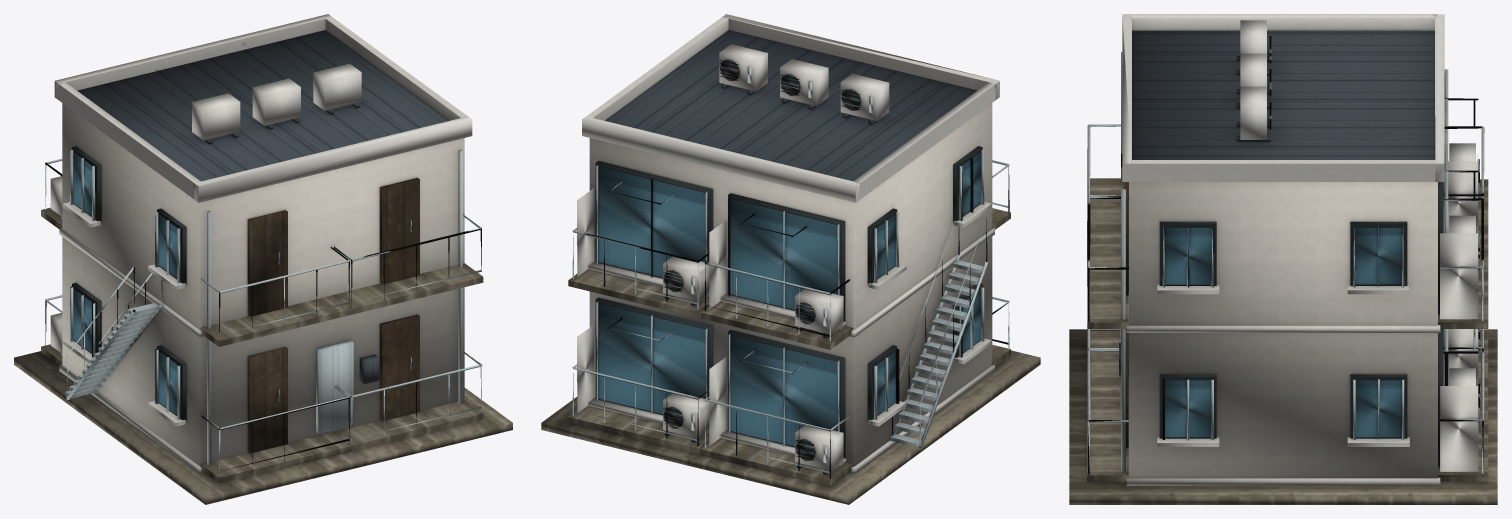
Rendered from residential_005.obj.
3 views of the same model, side by side, from view 1: azimuth 30°, elevation 25°; view 2: azimuth 150°, elevation 25°; view 3: azimuth 270°, elevation 25° (orthographic). The views are drawn at different scales.
Visible parts, largest first — view 1: residential_005; view 2: residential_005; view 3: residential_005.
Boxes of the visible parts, x1=… form: residential_005: x1=14, y1=14, x2=512, y2=504; residential_005: x1=541, y1=14, x2=1040, y2=504; residential_005: x1=1069, y1=14, x2=1497, y2=504.
Size of the model in its own units: 6.9 by 6.63 by 7.2.
1 material, 1 textured.
